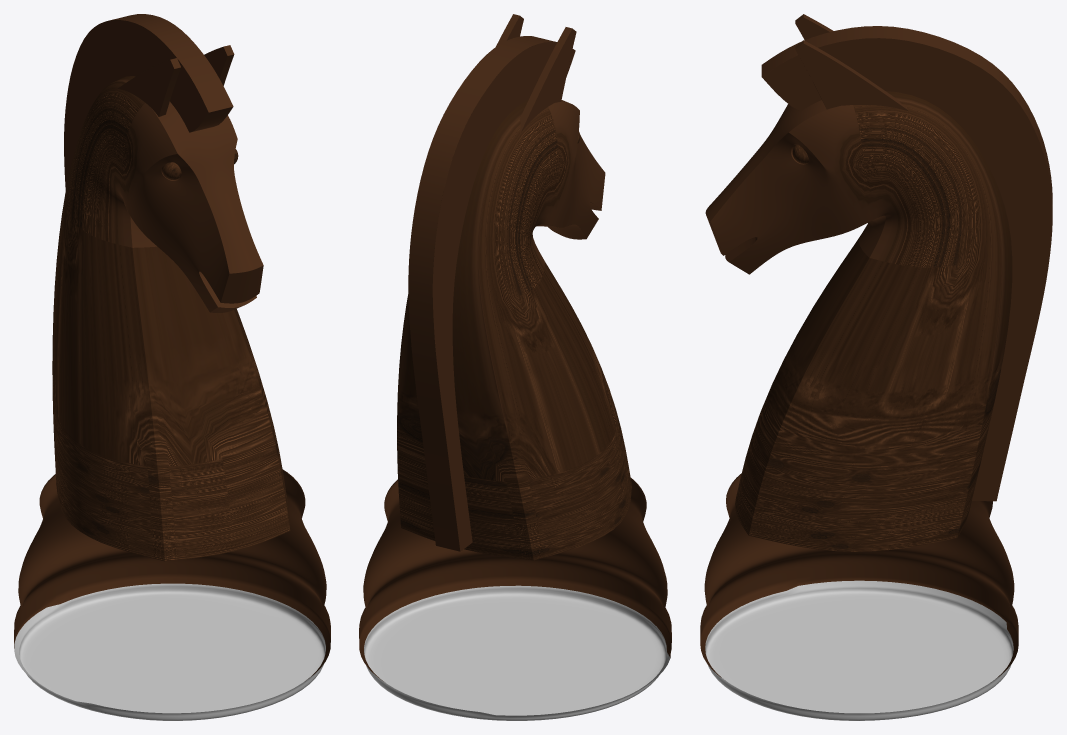
3 renders of one model, left to right at view 1: azimuth 30°, elevation 25°; view 2: azimuth 150°, elevation 25°; view 3: azimuth 270°, elevation 25°, orthographic.
Visible parts, largest first — view 1: Knight; view 2: Knight; view 3: Knight.
Boxes of the visible parts, <box> form: Knight: <box>14,14,330,720</box>; Knight: <box>359,14,671,720</box>; Knight: <box>700,14,1052,720</box>.
Size of the model in its own units: 198 by 431 by 219.
